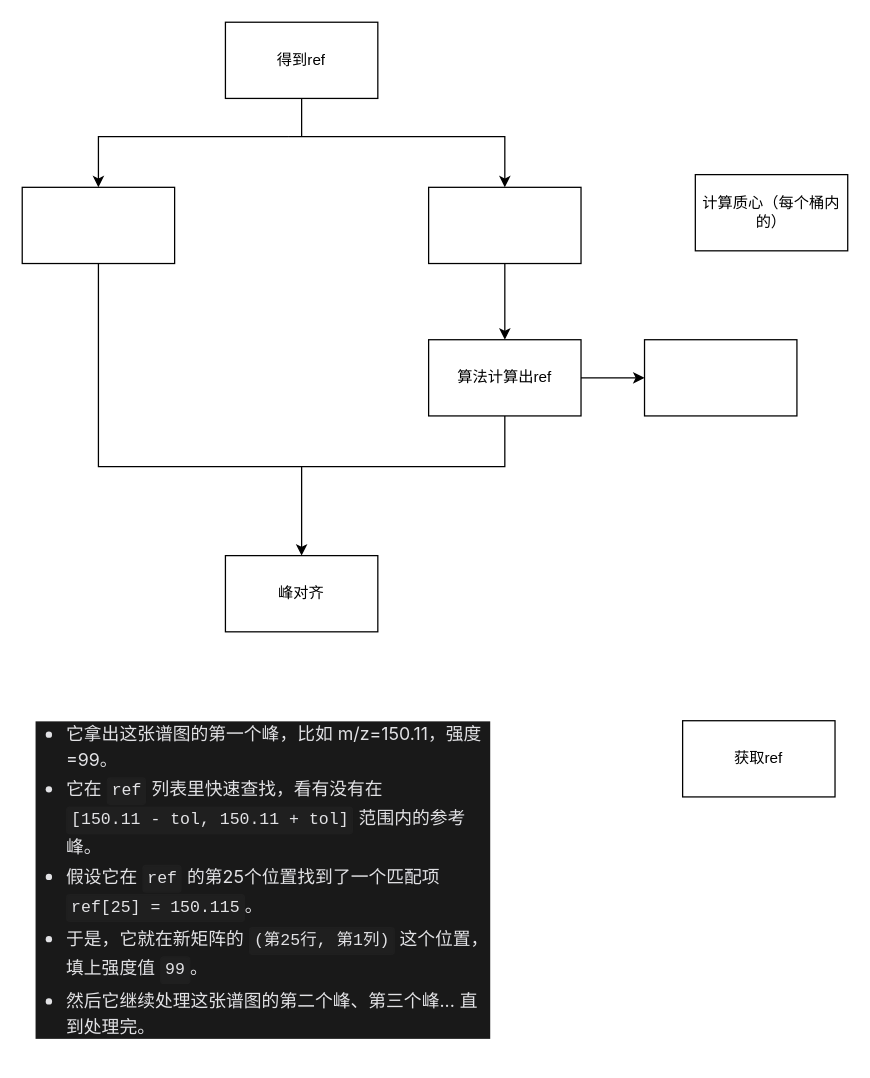
Some shapes in this 870 by 1078 pixel diagram are drawn without their labels. Each missing label, with the box of its shape:
提供了ref: (21, 186, 175, 264)
有没有提供tolerance: (643, 338, 797, 416)
未提供了ref: (427, 186, 581, 264)
